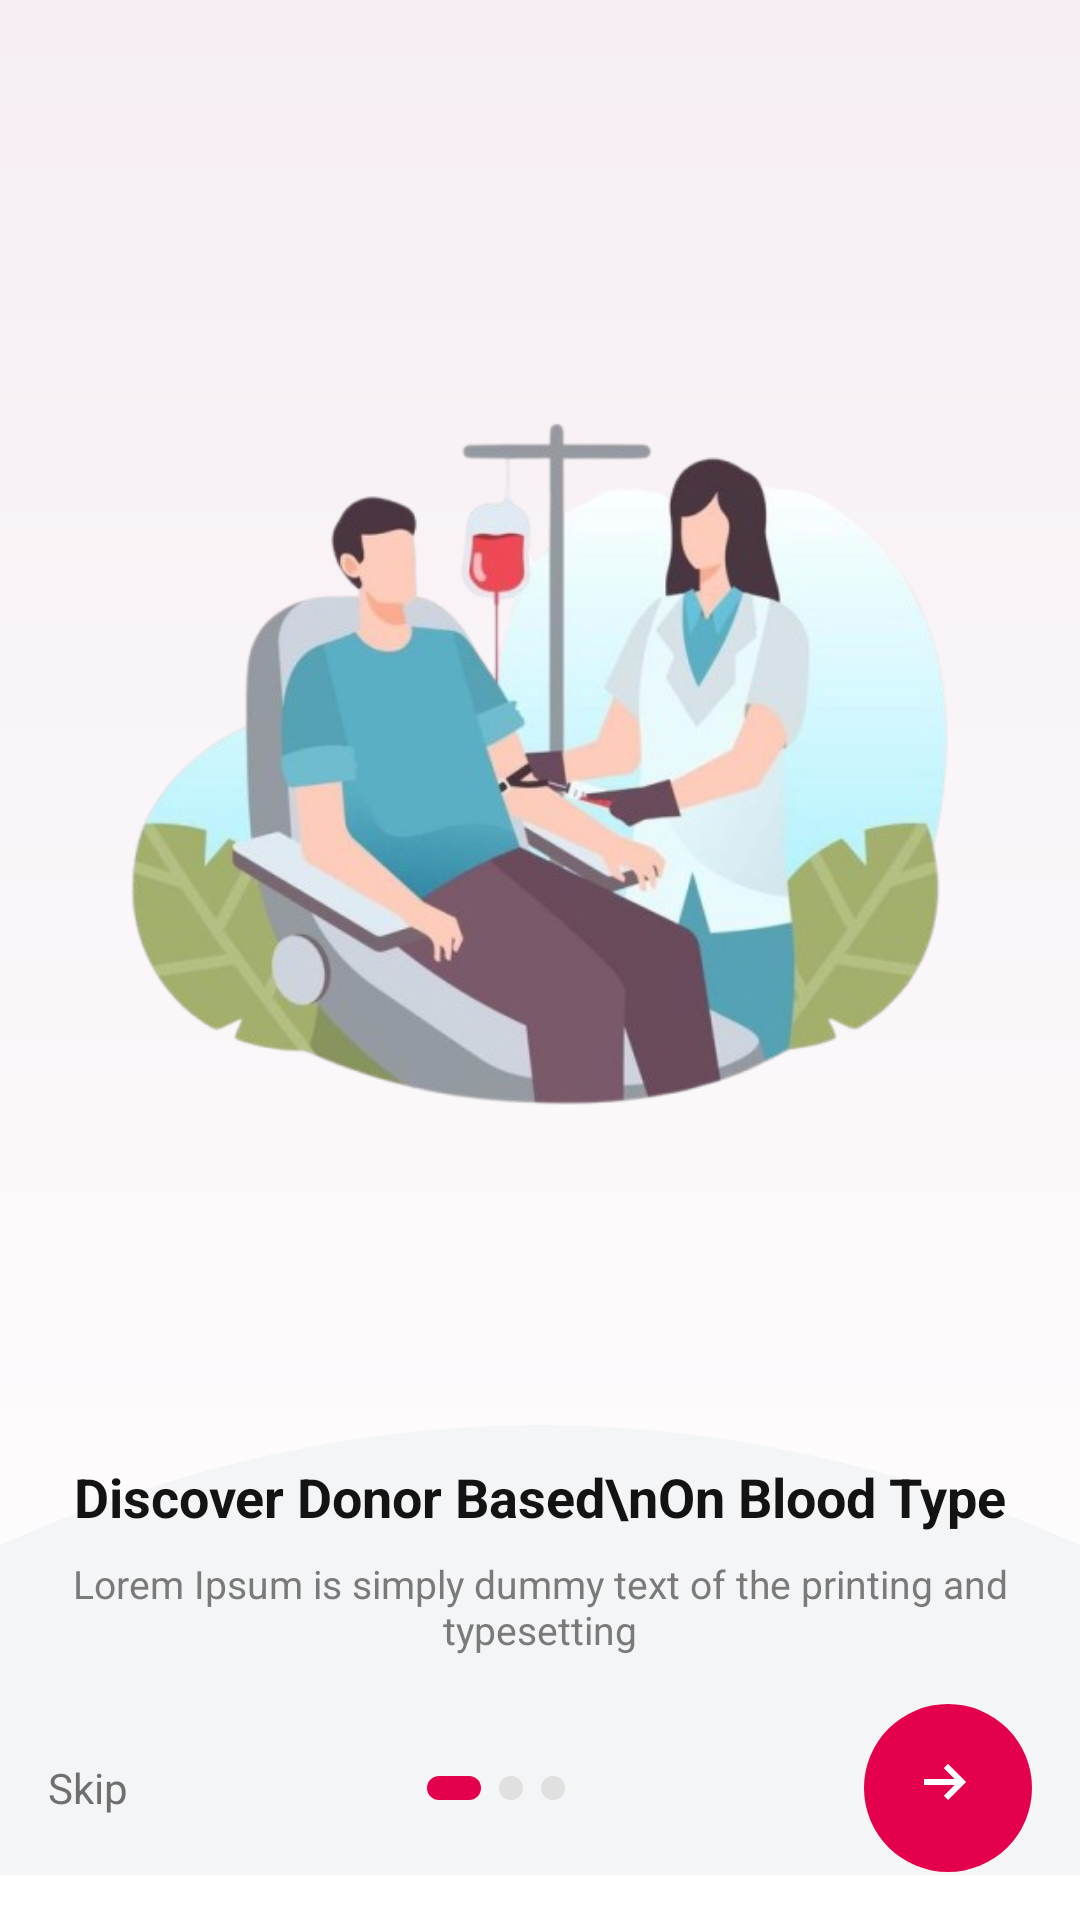

Screen size 1080px×1920px. Icon name, then its center in pixels as point (x, y):
arrow right: point (948, 1788)
